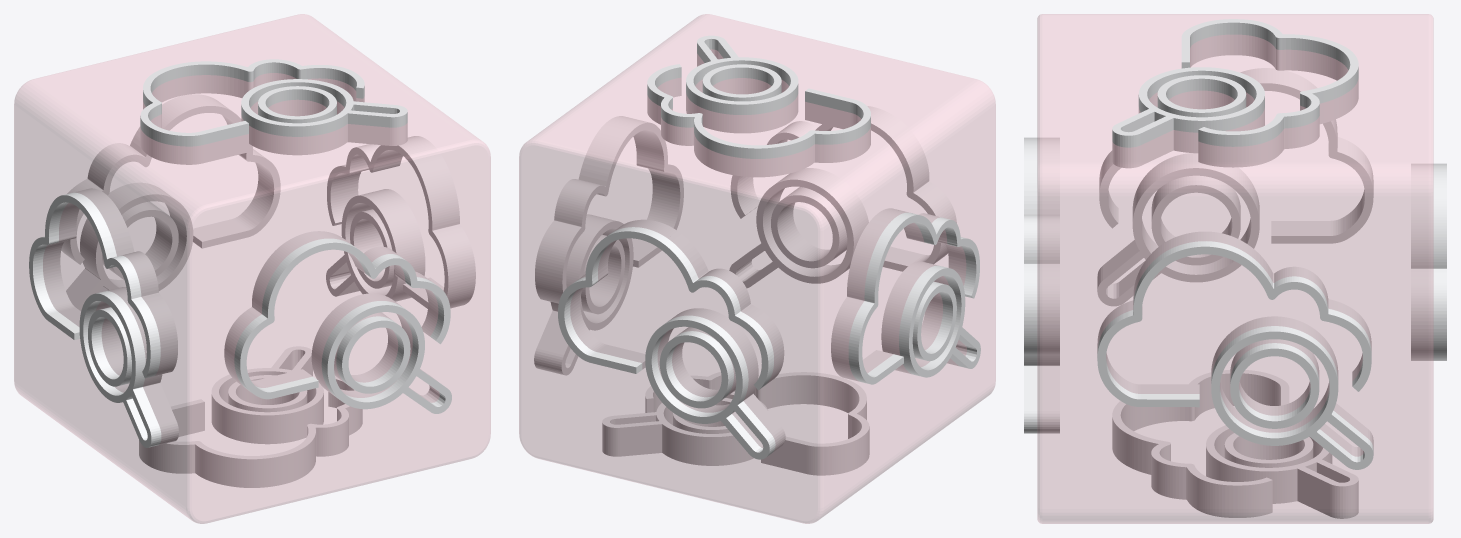
The model's file is cloudwatch.glb.
3 views of the same model, side by side, from view 1: azimuth 30°, elevation 25°; view 2: azimuth 150°, elevation 25°; view 3: azimuth 270°, elevation 25° (orthographic). The views are drawn at different scales.
Parts seen in each view (by area): view 1: Glass, Glyph Left, Glyph Top, Glyph Front, Glyph Right, Glyph Bottom, Glyph Back; view 2: Glass, Glyph Back, Glyph Top, Glyph Left, Glyph Right, Glyph Front, Glyph Bottom; view 3: Glass, Glyph Right, Glyph Top, Glyph Bottom, Glyph Left, Glyph Front, Glyph Back.
Boxes of the visible parts, <box> form: Glass: <box>14,14,490,523</box>; Glyph Left: <box>29,188,178,447</box>; Glyph Top: <box>140,59,407,164</box>; Glyph Front: <box>224,231,451,413</box>; Glyph Right: <box>326,136,475,308</box>; Glyph Bottom: <box>139,346,362,487</box>; Glyph Back: <box>61,94,280,310</box>; Glass: <box>519,14,995,523</box>; Glyph Back: <box>558,219,785,459</box>; Glyph Top: <box>647,35,870,177</box>; Glyph Left: <box>831,208,980,384</box>; Glyph Right: <box>534,116,683,375</box>; Glyph Front: <box>729,106,956,287</box>; Glyph Bottom: <box>602,372,869,475</box>; Glass: <box>1037,14,1433,523</box>; Glyph Right: <box>1097,231,1373,469</box>; Glyph Top: <box>1112,19,1358,168</box>; Glyph Bottom: <box>1112,370,1358,518</box>; Glyph Left: <box>1097,68,1373,306</box>; Glyph Front: <box>1024,137,1059,433</box>; Glyph Back: <box>1411,163,1446,360</box>.
Size of the model in its own units: 2.13 by 2.13 by 2.13.
